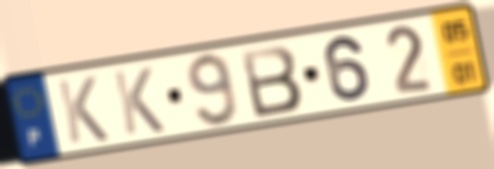2: (384, 23, 434, 96)
6: (322, 33, 373, 105)
9: (182, 50, 242, 130)
B: (237, 42, 306, 121)
K: (109, 64, 168, 138), (53, 73, 112, 147)
